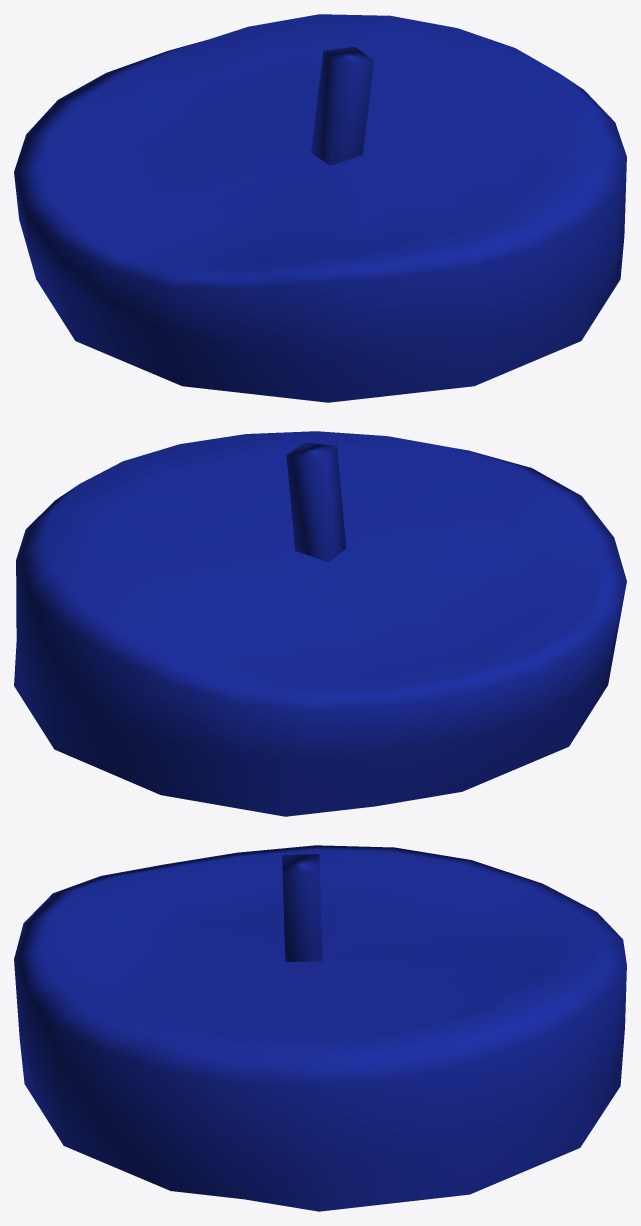
The model's file is Candle_Small.fbx.
The picture shows the model from 3 angles, top to bottom: view 1: azimuth 30°, elevation 25°; view 2: azimuth 150°, elevation 25°; view 3: azimuth 270°, elevation 25°; orthographic projection.
Visible parts, largest first — view 1: Candle_Small; view 2: Candle_Small; view 3: Candle_Small.
Boxes of the visible parts, left/top/right/bottom form: Candle_Small: left=14, top=14, right=626, bottom=402; Candle_Small: left=14, top=431, right=626, bottom=816; Candle_Small: left=14, top=845, right=626, bottom=1211.
Size of the model in its own units: 7.21 by 2.95 by 7.18.
